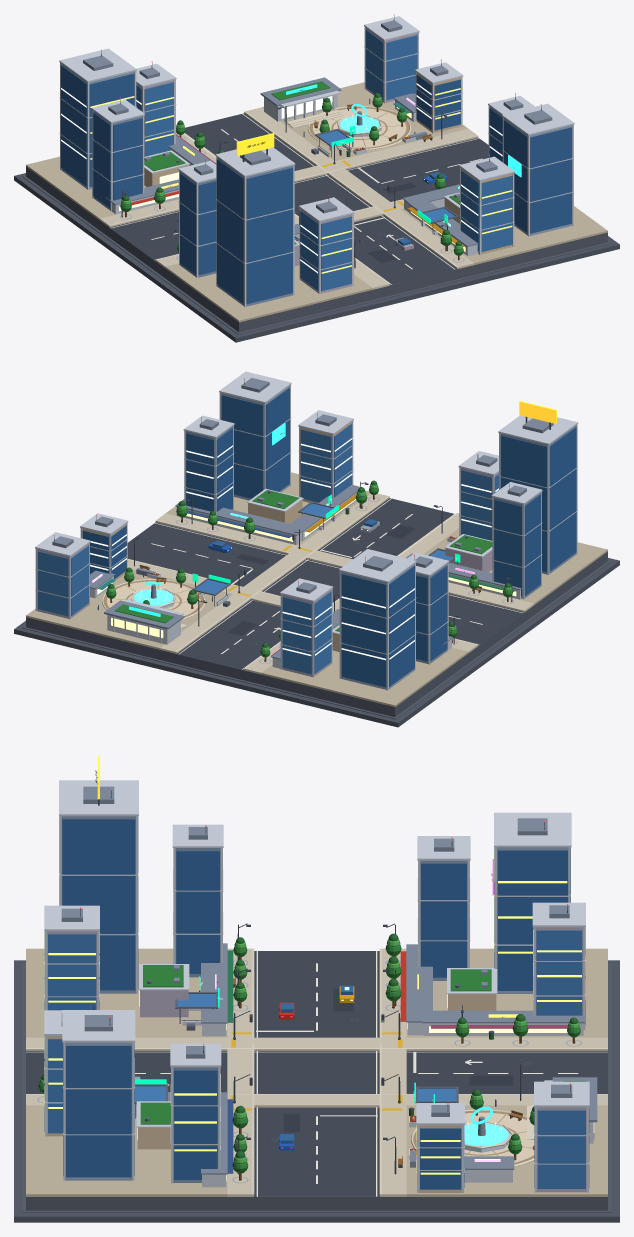
Rendered from env_city_plaza.glb.
3 views of the same model, one above another, from view 1: azimuth 30°, elevation 25°; view 2: azimuth 150°, elevation 25°; view 3: azimuth 270°, elevation 25° (orthographic). The views are drawn at different scales.
Parts seen in each view (by area): view 1: RoadNS, RoadEW, BaseSlab, TowerSW1_GlassS, BasePlinth, TowerSE1_GlassS, WalkNS1, TowerSW1_GlassW, Block-1-1, TowerNW1_GlassW, WalkEW1, Block1-1 (+43 smaller); view 2: RoadNS, RoadEW, BaseSlab, BasePlinth, TowerNW1_GlassN, Block-11, TowerSW1_GlassW, WalkNS1, TowerSE1_GlassN, WalkEW-1, TowerNW1_GlassW, Block11 (+44 smaller); view 3: RoadEW, RoadNS, BasePlinth, TowerSW1_GlassE, TowerSE1_GlassE, BaseSlab, Block1-1, TowerNW1_GlassE, WalkNS-1, WalkEW1, TowerSW3_GlassE, TowerNW3_GlassE (+43 smaller).
Boxes of the visible parts, x1,y1,x2,y2 form: RoadNS: [184, 113, 456, 285]; RoadEW: [110, 137, 488, 260]; BaseSlab: [26, 167, 607, 332]; TowerSW1_GlassS: [246, 168, 292, 303]; BasePlinth: [14, 173, 619, 342]; TowerSE1_GlassS: [530, 127, 571, 233]; WalkNS1: [244, 107, 474, 269]; TowerSW1_GlassW: [217, 159, 243, 303]; Block-1-1: [165, 263, 372, 322]; TowerNW1_GlassW: [61, 65, 87, 186]; WalkEW1: [99, 128, 478, 227]; Block1-1: [401, 206, 607, 264]; RoadNS: [177, 498, 453, 670]; RoadEW: [127, 522, 523, 645]; BaseSlab: [26, 551, 607, 717]; BasePlinth: [14, 558, 619, 727]; TowerNW1_GlassN: [341, 574, 386, 687]; Block-11: [261, 647, 468, 707]; TowerSW1_GlassW: [549, 427, 576, 571]; WalkNS1: [159, 493, 389, 653]; TowerSE1_GlassN: [221, 395, 263, 498]; WalkEW-1: [156, 513, 534, 612]; TowerNW1_GlassW: [389, 565, 414, 686]; Block11: [26, 569, 232, 649]; RoadEW: [254, 951, 379, 1196]; RoadNS: [26, 1051, 607, 1093]; BasePlinth: [14, 960, 619, 1222]; TowerSW1_GlassE: [62, 819, 135, 990]; TowerSE1_GlassE: [66, 1045, 131, 1177]; BaseSlab: [26, 1196, 607, 1210]; Block1-1: [26, 1105, 227, 1196]; TowerNW1_GlassE: [497, 850, 567, 990]; WalkNS-1: [26, 1037, 607, 1051]; WalkEW1: [380, 948, 406, 1196]; TowerSW3_GlassE: [176, 851, 219, 973]; TowerNW3_GlassE: [421, 863, 466, 977].
Size of the model in its own units: 12.5 by 5.28 by 12.5.
